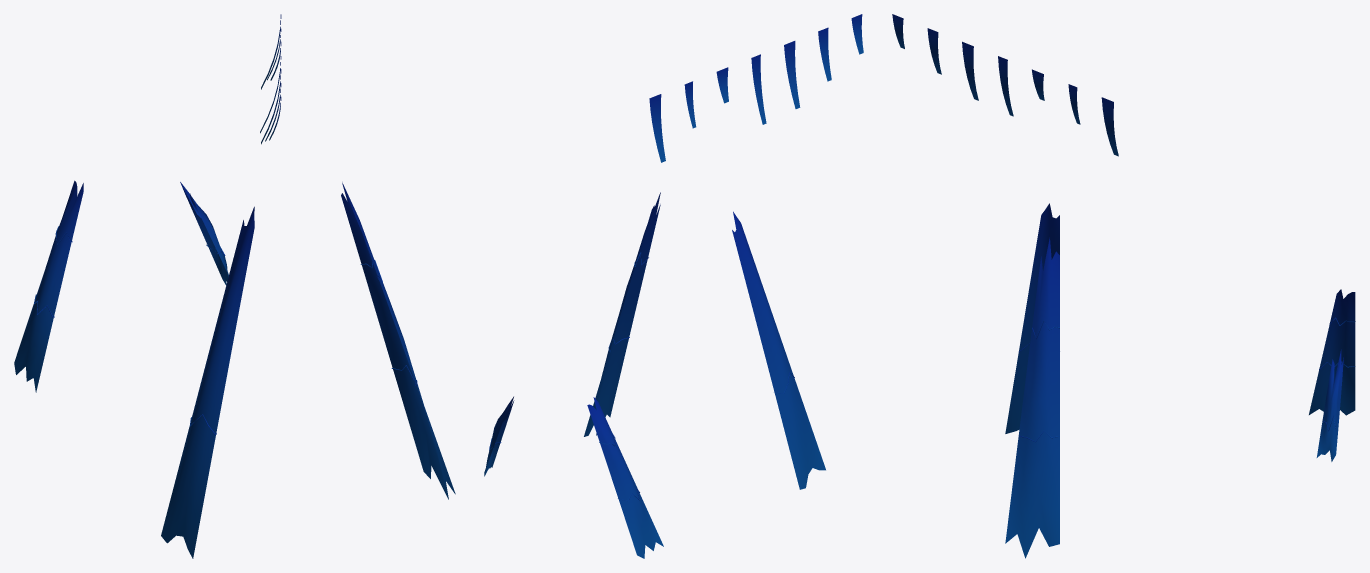
File: terrace_membrane.glb
3 views of the same model, side by side, from view 1: azimuth 30°, elevation 25°; view 2: azimuth 150°, elevation 25°; view 3: azimuth 270°, elevation 25° (orthographic). The views are drawn at different scales.
Parts seen in each view (by area): view 1: terrace_membrane; view 2: terrace_membrane; view 3: terrace_membrane.
Part boxes in pixels (<box>): terrace_membrane: <box>14,14,455,558</box>; terrace_membrane: <box>484,14,863,558</box>; terrace_membrane: <box>892,14,1355,558</box>.
Size of what is drawn, in the model's own units: 5.57 by 10.24 by 9.73.
